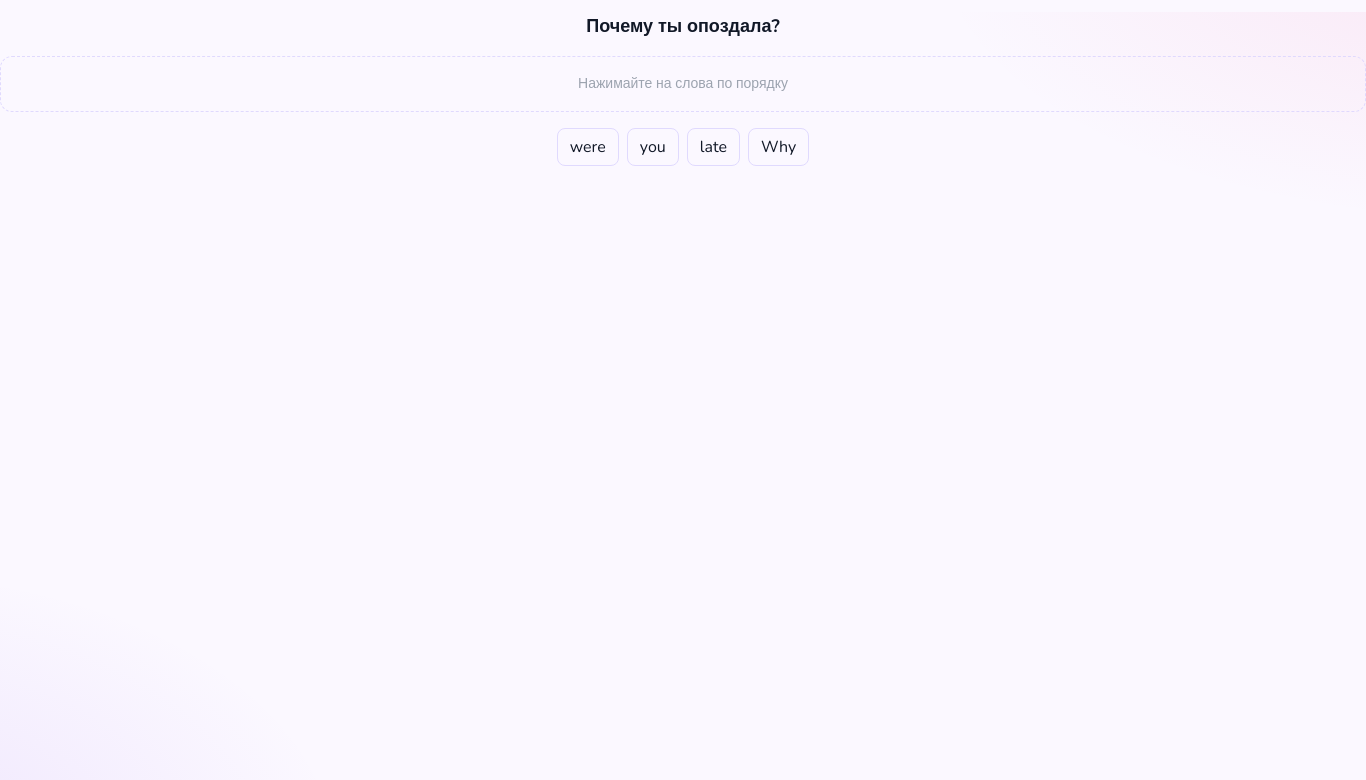
Test: SentenceBuilder › lets you take a word back after a wrong order
Click the button "were" at coordinates (588, 147), box [557,128,619,166]
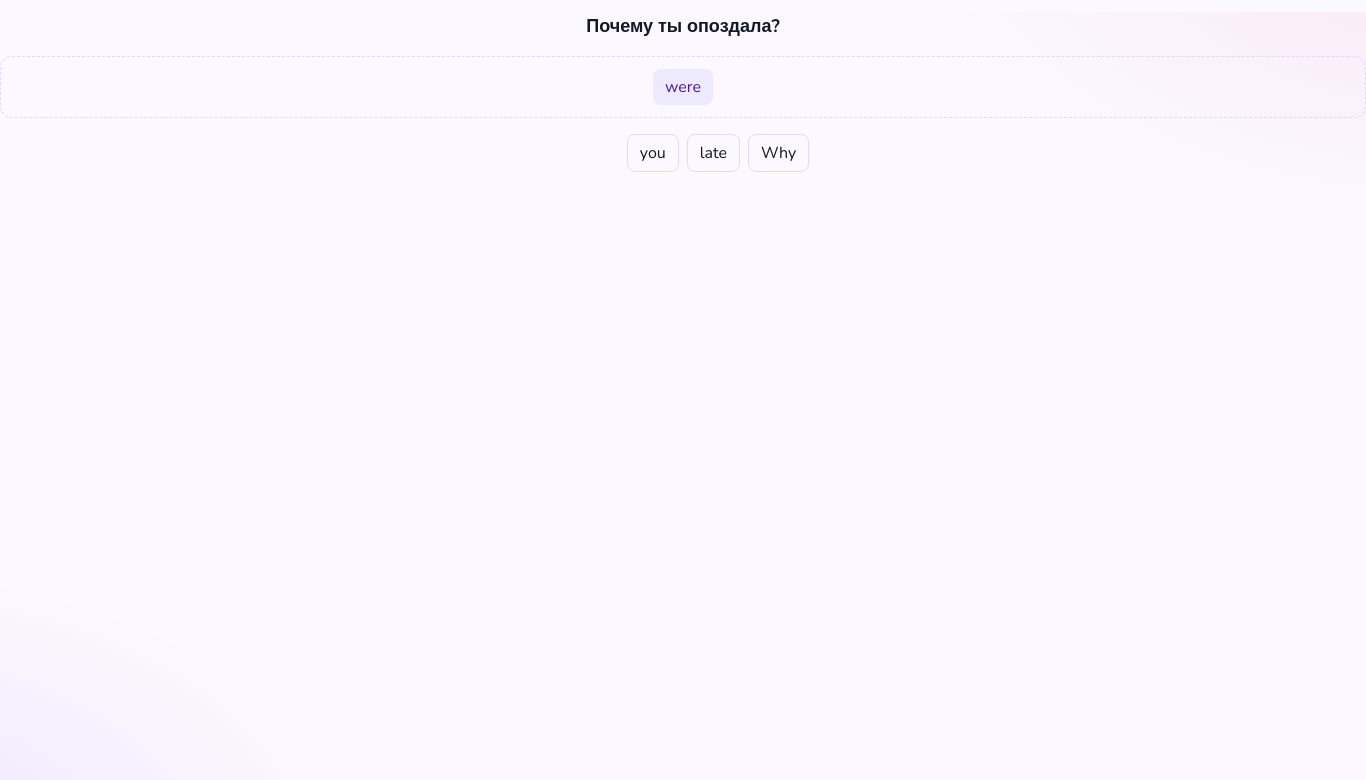
Click the button "Why" at coordinates (779, 153), box [748,134,809,172]
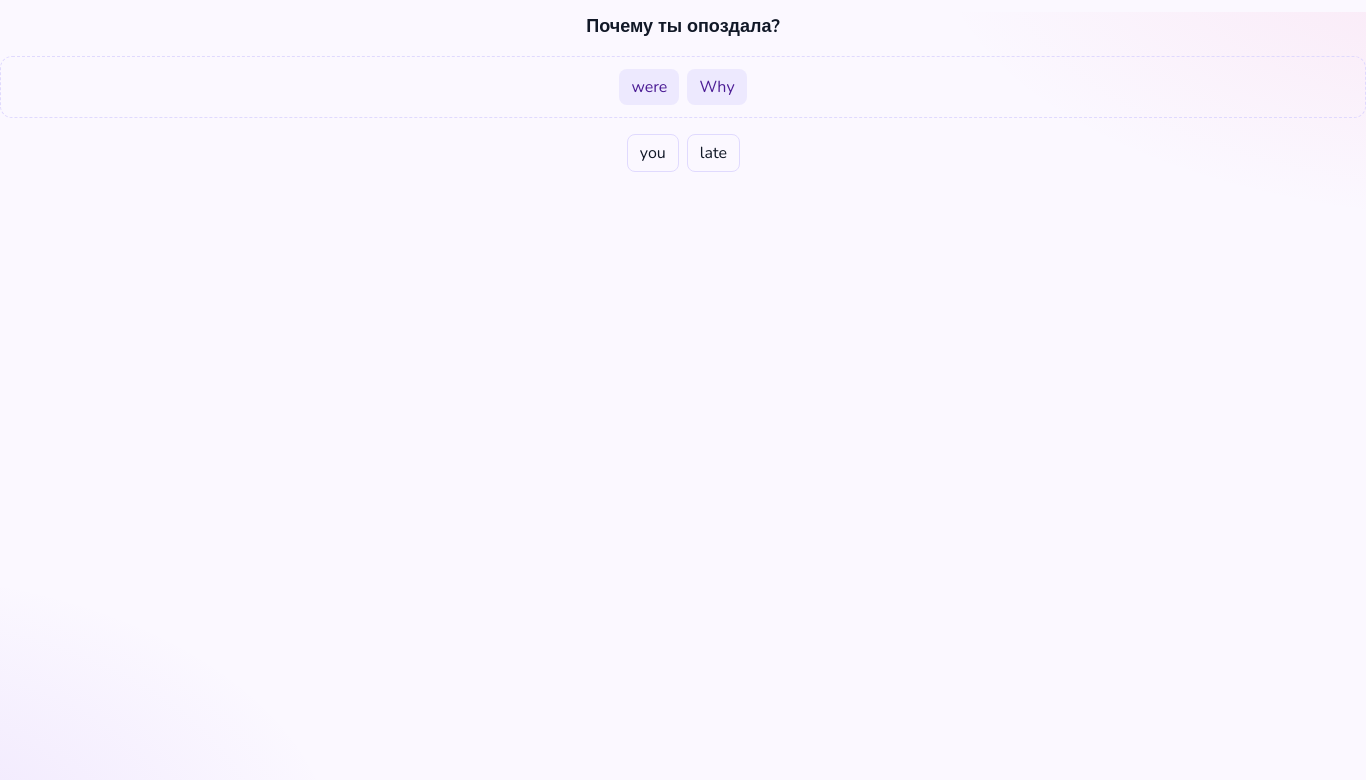
Click the button "you" at coordinates (653, 153), box [627,134,679,172]
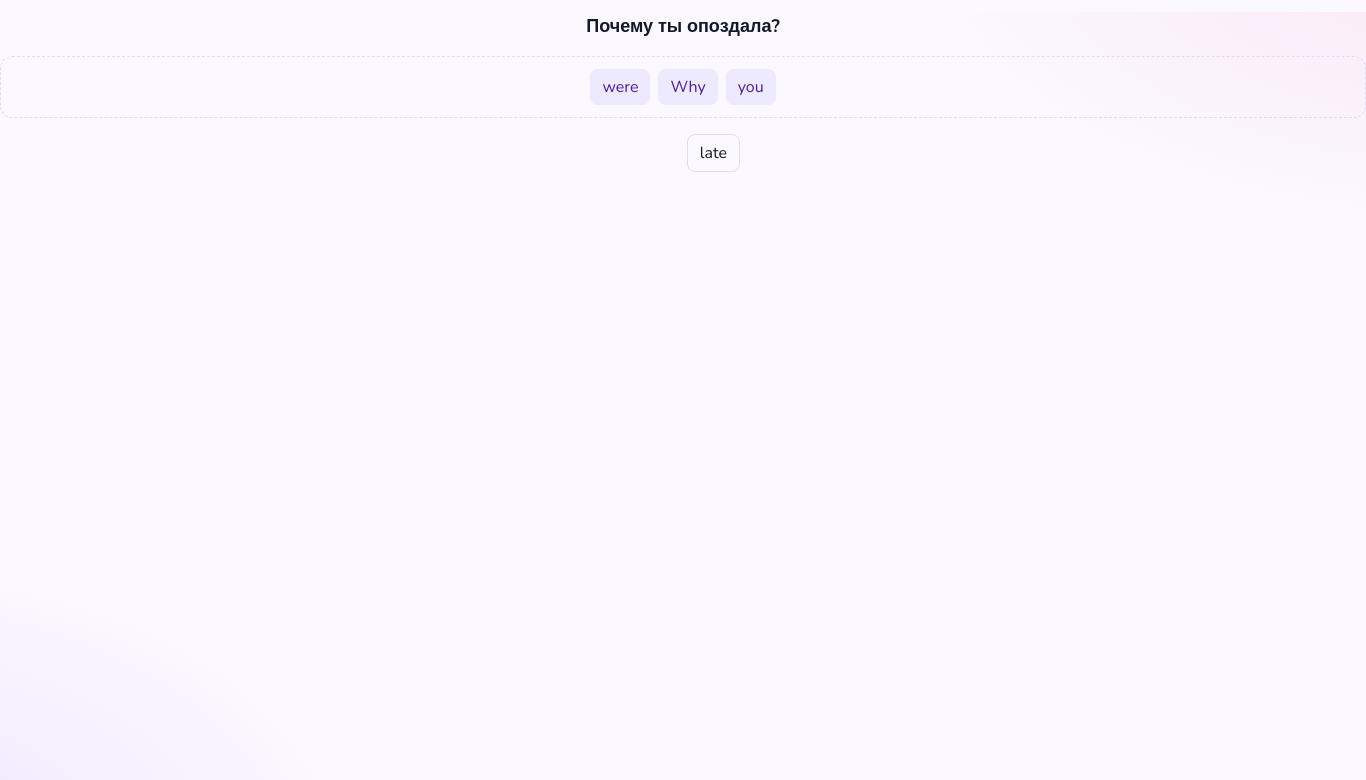
Click the button "late" at coordinates (713, 153), box [687,134,740,172]
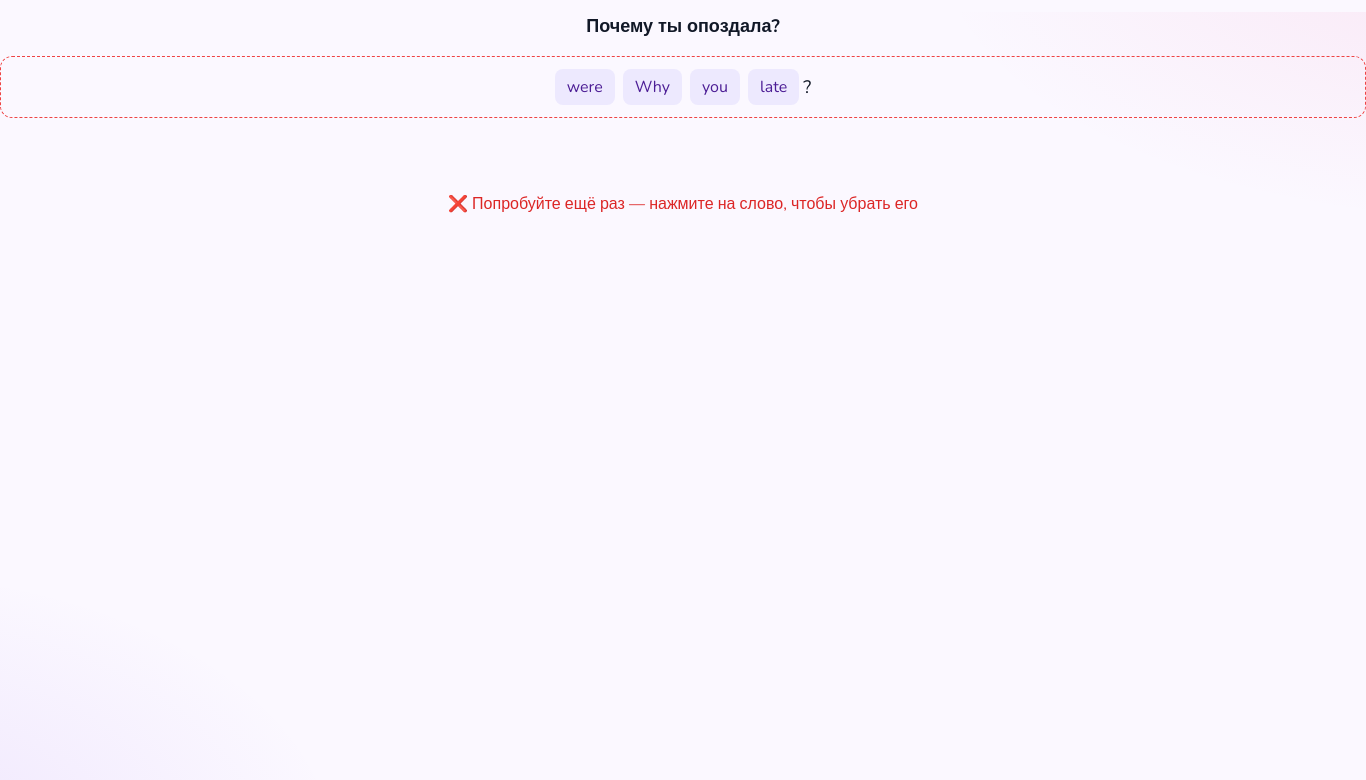
expect the text "❌ Попробуйте ещё раз — нажмите на слово, чтобы убрать его" is shown: met, box [448,192,918,216]
Click the button "were" at coordinates (585, 87), box [555,69,615,105]
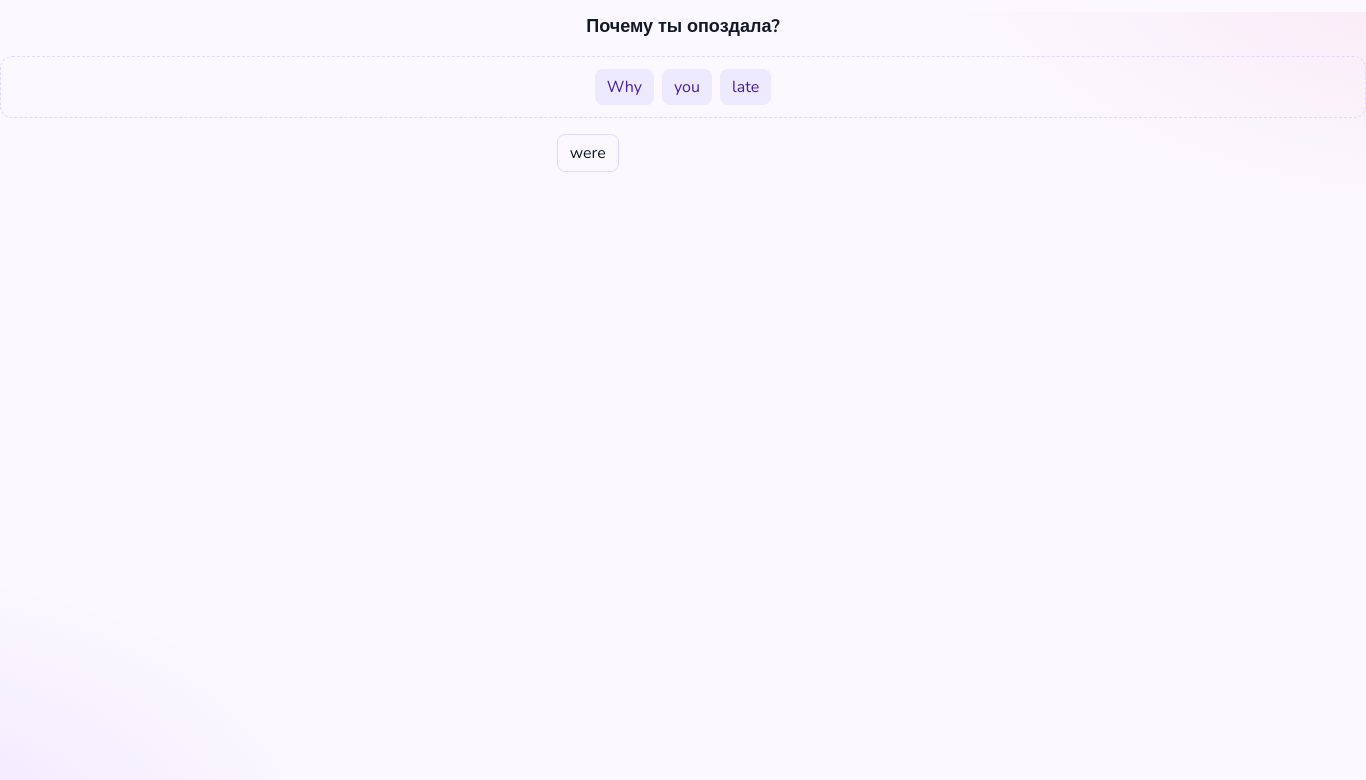
expect the text "Попробуйте ещё раз" is gone: met
